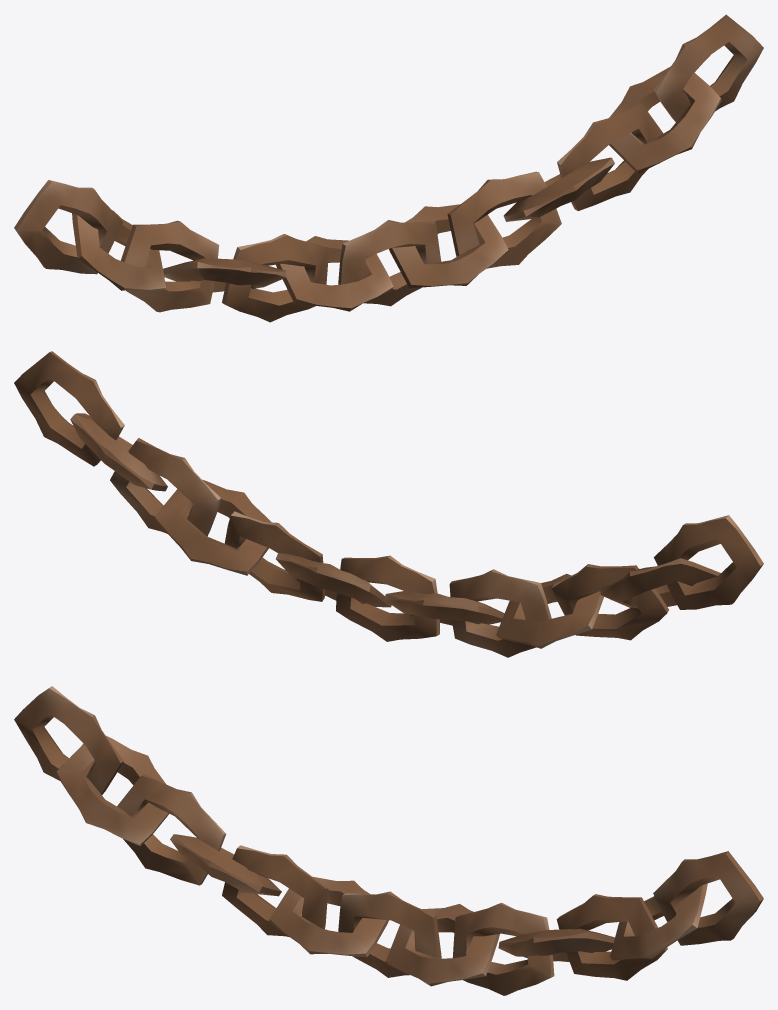
File: SM_Potion_Props_Chain_B_01.fbx
The picture shows the model from 3 angles, top to bottom: view 1: azimuth 30°, elevation 25°; view 2: azimuth 150°, elevation 25°; view 3: azimuth 330°, elevation 25°; orthographic projection.
Visible parts, largest first — view 1: SM_Potion_Props_Chain_B_01_LOD0; view 2: SM_Potion_Props_Chain_B_01_LOD0; view 3: SM_Potion_Props_Chain_B_01_LOD0.
Boxes of the visible parts, x1,y1,x2,y2 form: SM_Potion_Props_Chain_B_01_LOD0: (14, 14, 763, 322); SM_Potion_Props_Chain_B_01_LOD0: (14, 351, 763, 657); SM_Potion_Props_Chain_B_01_LOD0: (14, 686, 763, 995).
Size of what is drawn, in the model's own units: 102 by 27.18 by 9.99.
